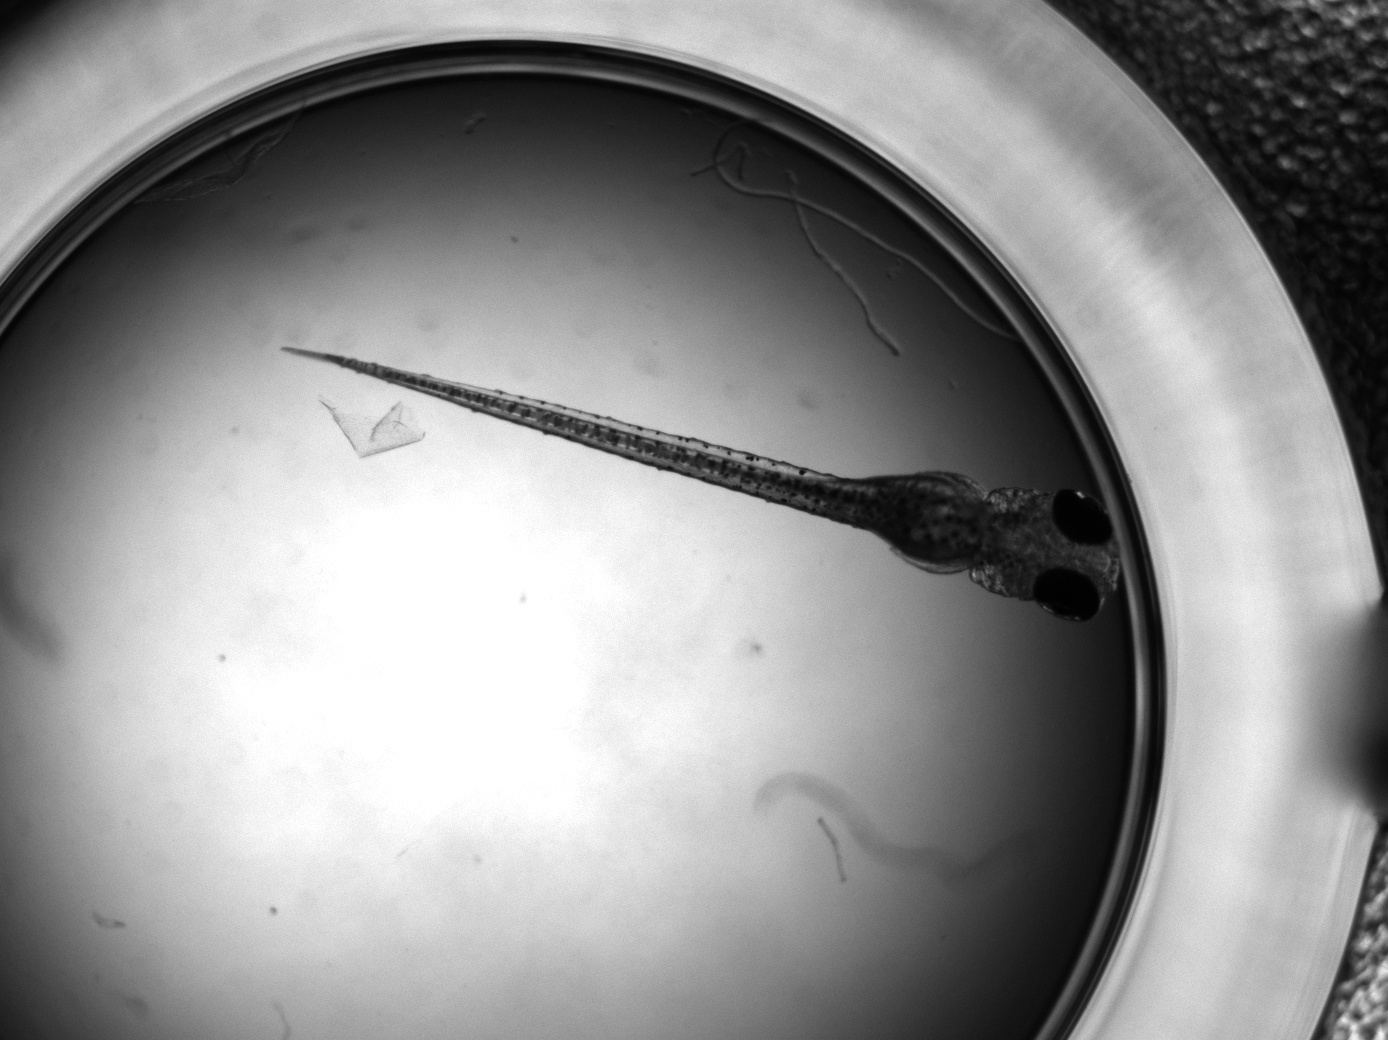debris: (315, 395, 428, 459)
embryo: (282, 345, 1125, 622)
eye: (1051, 488, 1114, 547), (1033, 568, 1101, 621)
yolksac: (838, 472, 987, 571)
